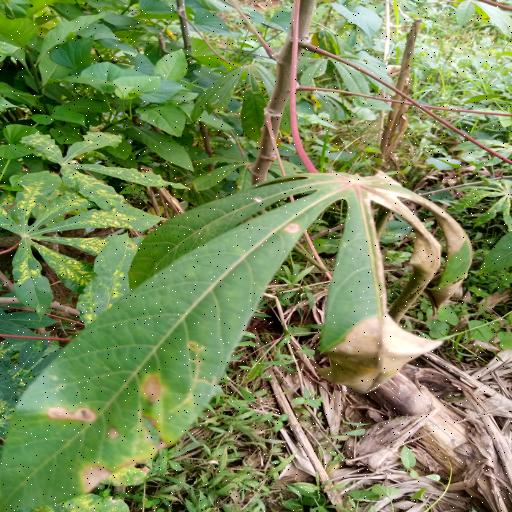Cassava_Brown_Leaf_Spot: (4, 170, 475, 512)
